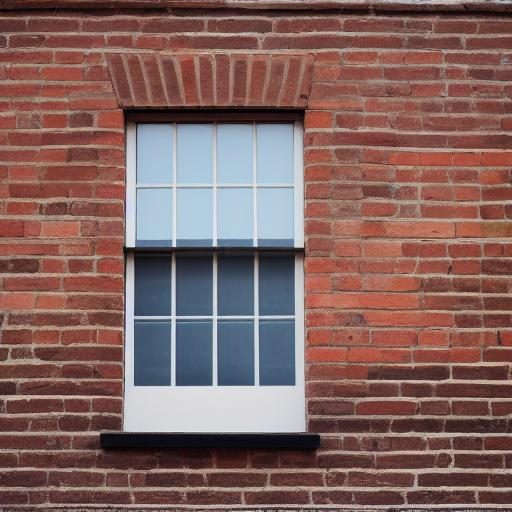Window: (101, 53, 325, 451)
